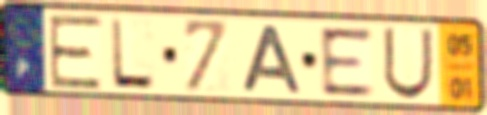7: (181, 16, 232, 95)
A: (238, 22, 305, 95)
E: (46, 14, 105, 92), (316, 25, 377, 98)
L: (108, 16, 158, 92)
U: (381, 25, 436, 102)
